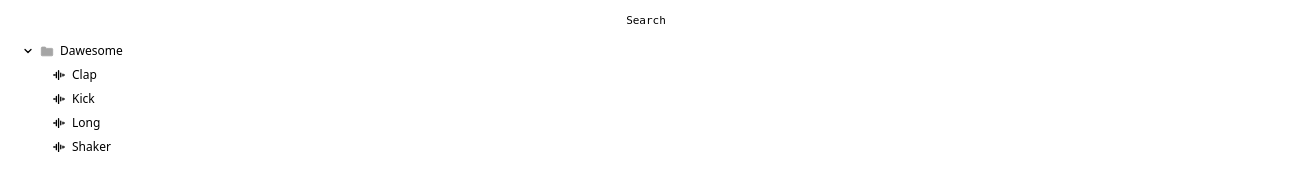
previewing a sample › takes the button away when a short sample is heard next
The width and height of the screenshot is (1304, 169).
Later steps or results of the test are not shown.
Step 1. Press the mouse on the list item "Long" → [59, 123], box x1=12 y1=111 x2=1292 y2=135
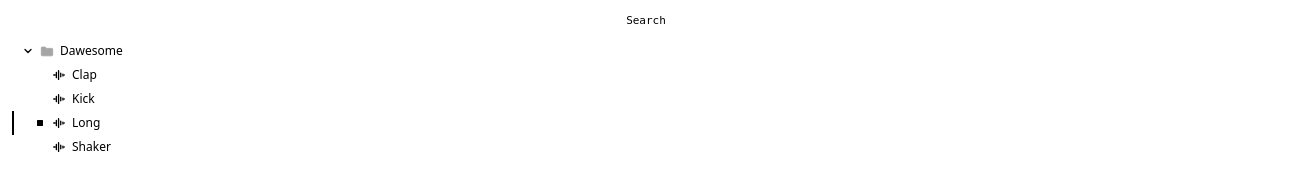
Now the number of buttons named "Stop preview" is 1, box x1=34 y1=117 x2=46 y2=129
